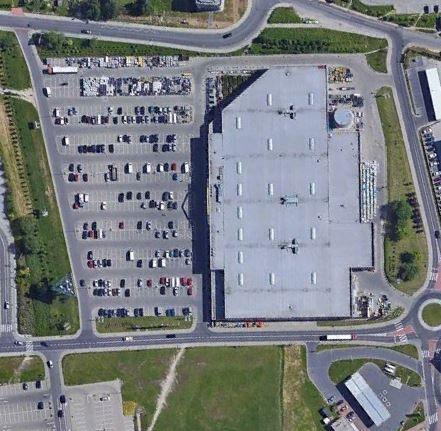garage: (340, 370, 395, 429)
shopping_center: (200, 59, 381, 329)
